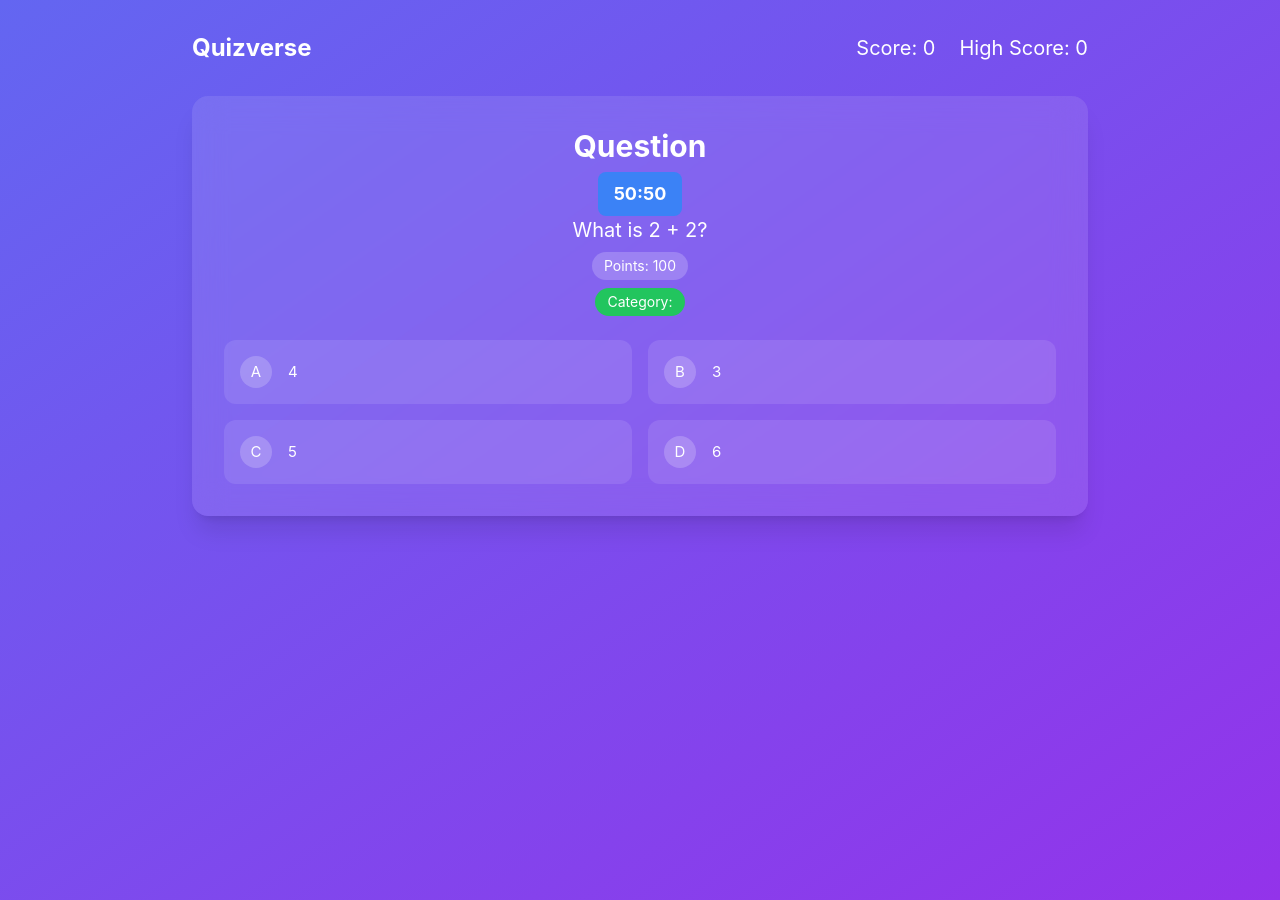
QuizGame › ends game when incorrect answer is selected
The image size is (1280, 900).
Click the button "B 3". click: (680, 372)
box: [648,340,1056,404]
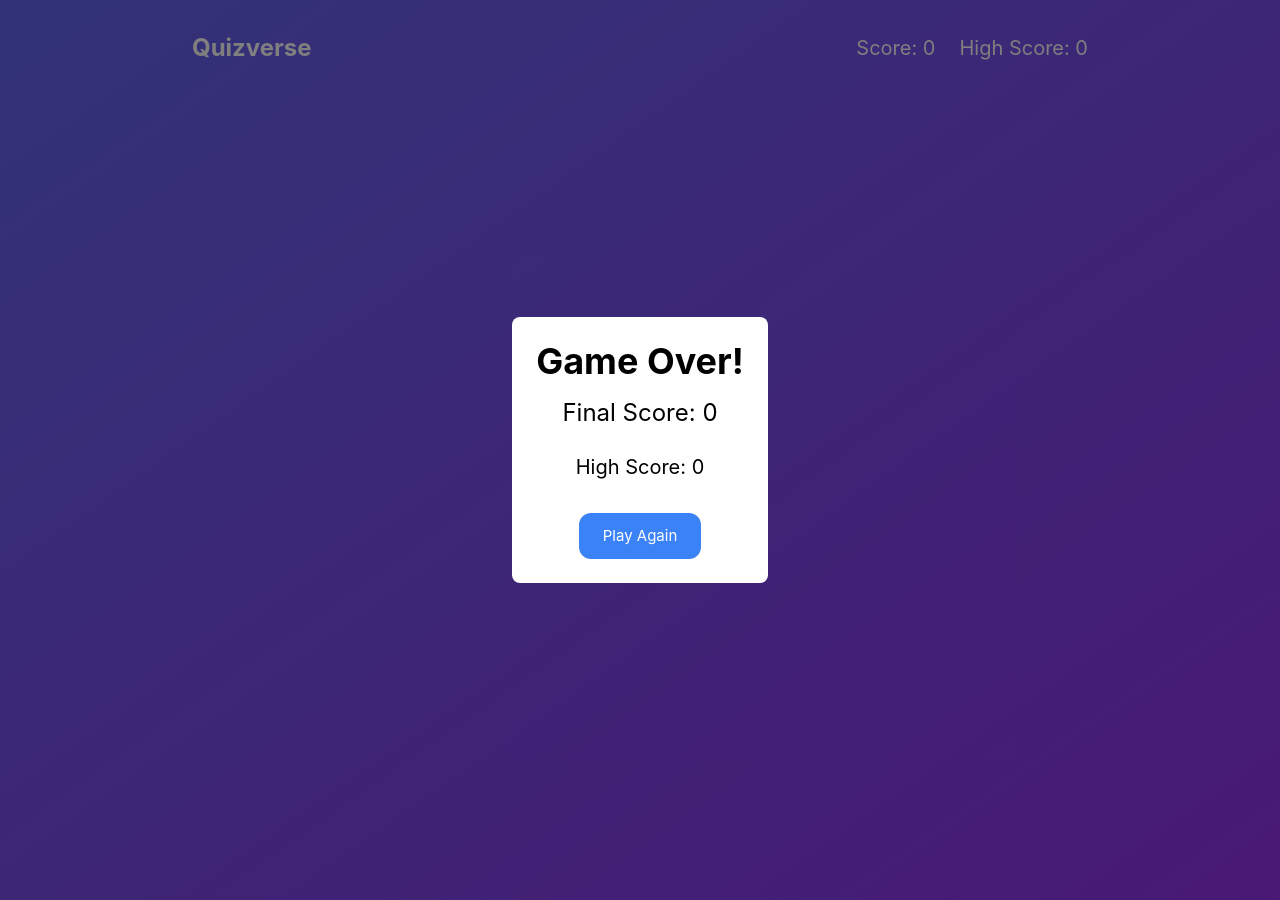
Expected: the heading "Game Over!" is shown, [536,341,744,381]
